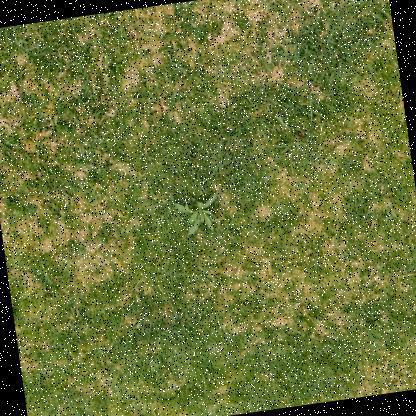Weeds: (172, 193, 224, 237)
